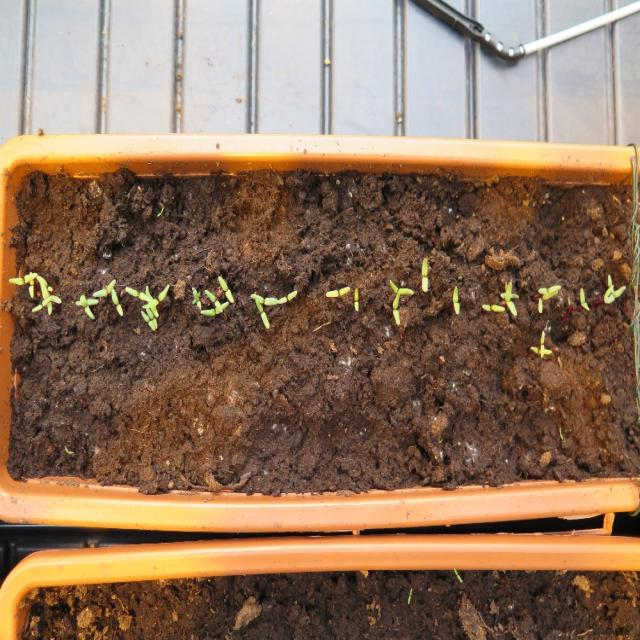crop: (324, 285, 350, 297), (578, 285, 590, 311), (451, 282, 460, 316), (421, 254, 428, 292), (352, 286, 358, 313)
weed: (155, 203, 163, 219), (557, 425, 563, 442), (64, 445, 74, 454)
